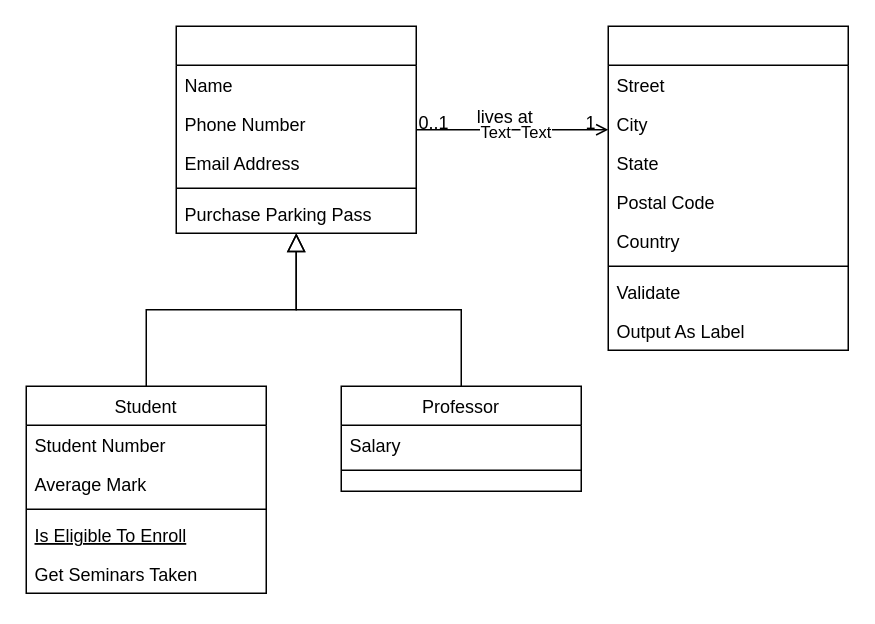
This 875x624 diagram has some shape labels left out. The box of each missing label's shape, as (x1, y1, x2, y2) in pixels:
Address: (607, 25, 848, 350)
Person: (175, 25, 416, 233)
